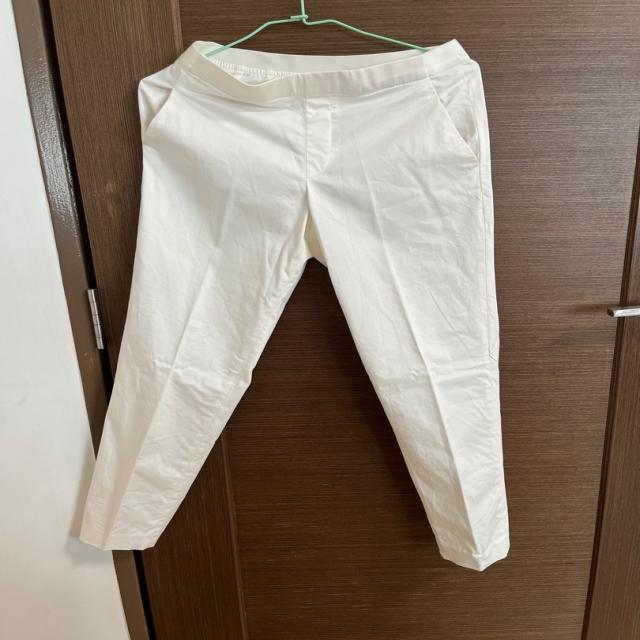long-pants: (73, 39, 512, 572)
